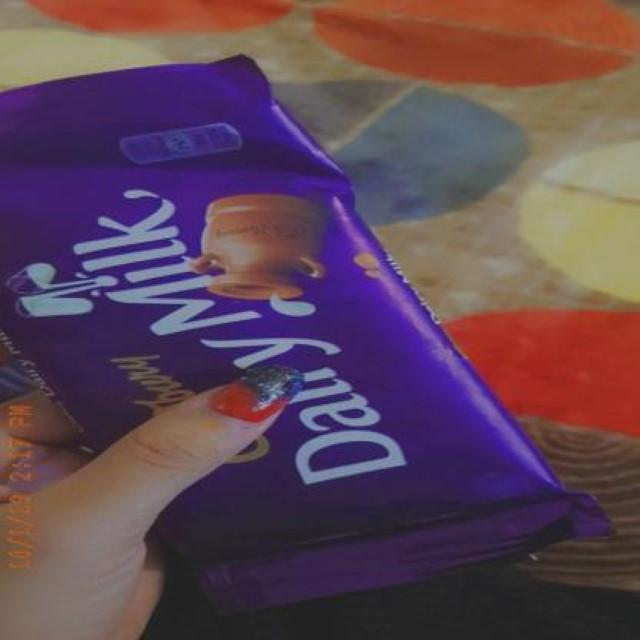cadbury_chocolate: (0, 52, 585, 585)
